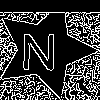N: (20, 24, 58, 71)
